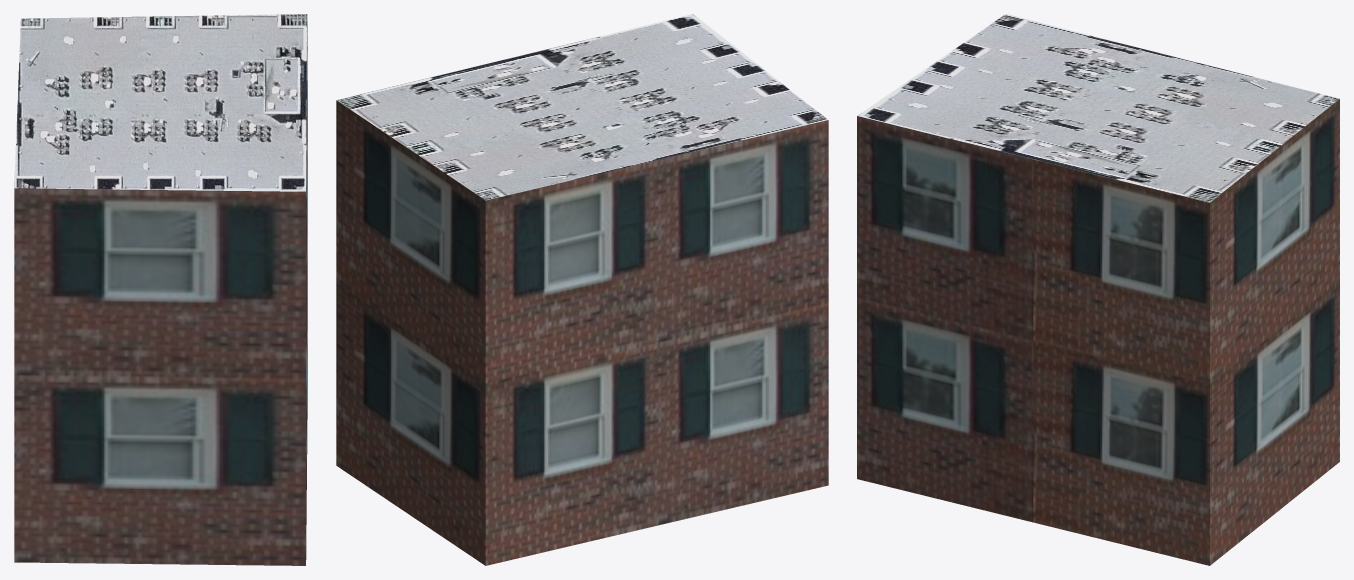
Rendered from ResTex__2768.fbx.
3 renders of one model, left to right at view 1: azimuth 30°, elevation 25°; view 2: azimuth 150°, elevation 25°; view 3: azimuth 270°, elevation 25°, orthographic. The views are drawn at different scales.
Visible parts, largest first — view 1: CityEngineMaterial_14_m, CityEngineMaterial_4_m; view 2: CityEngineMaterial_14_m, CityEngineMaterial_4_m; view 3: CityEngineMaterial_14_m, CityEngineMaterial_4_m.
Boxes of the visible parts, box(x1,y1,x2,y2) form: CityEngineMaterial_14_m: box(14, 46, 307, 565); CityEngineMaterial_4_m: box(14, 14, 307, 191); CityEngineMaterial_14_m: box(336, 100, 828, 565); CityEngineMaterial_4_m: box(336, 14, 827, 200); CityEngineMaterial_14_m: box(857, 99, 1339, 565); CityEngineMaterial_4_m: box(857, 14, 1339, 202).
Size of the model in its own units: 6.69 by 6 by 7.23.
Materials: 2 (2 with a texture image).
